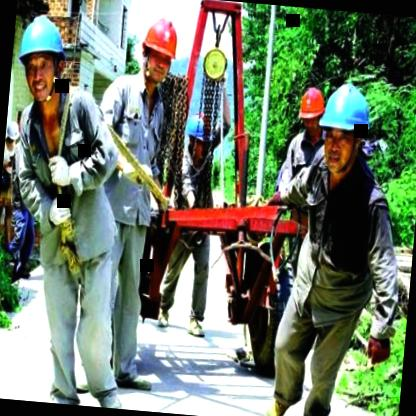helmet: (13, 8, 72, 112), (315, 80, 372, 172), (136, 12, 180, 93), (294, 83, 330, 141), (184, 110, 212, 164), (5, 121, 22, 150)
